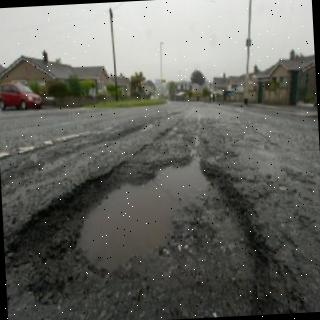pothole: (8, 153, 270, 320)
